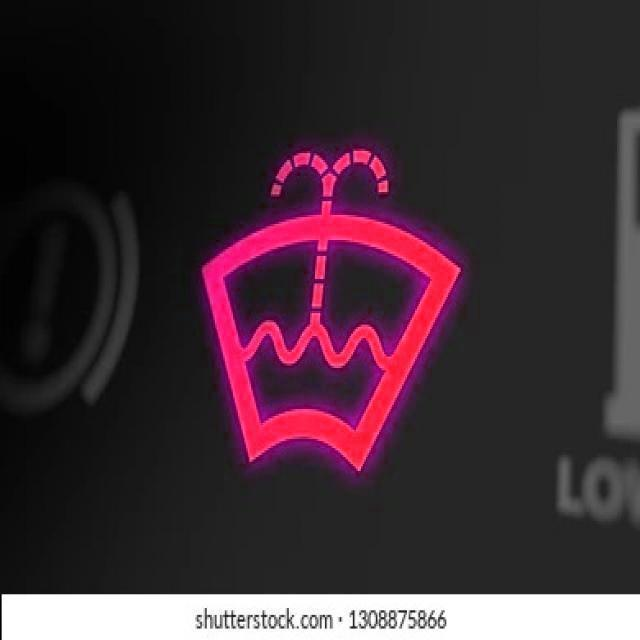Washer Fluid: (200, 148, 461, 468)
